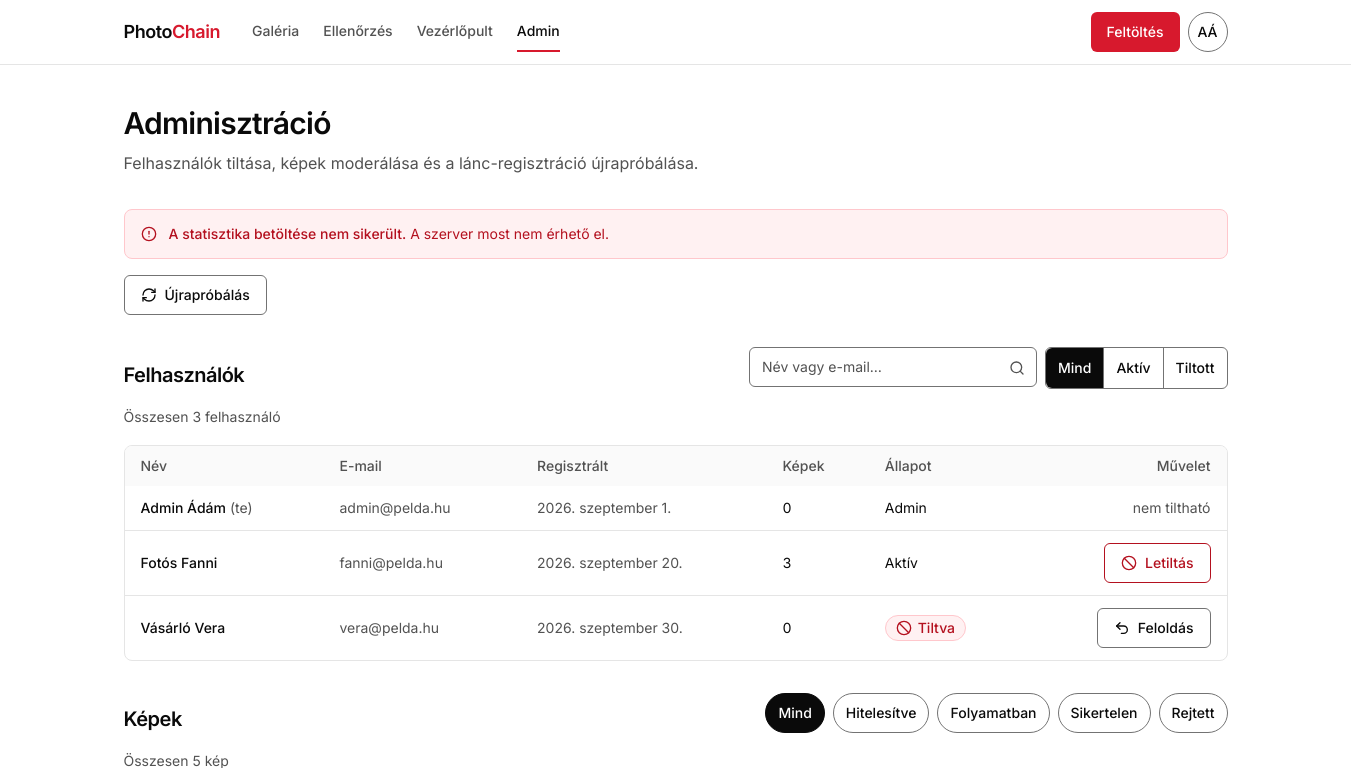
Test case: AdminPage – betöltési hibák › a statisztika betöltési hibája: riasztás, az állapotszűrő darabszám nélkül; siker után a számok megjelennek, a fókusz a statisztikára
The width and height of the screenshot is (1366, 768).
expect the message reads "A statisztika betöltése nem sikerült. A szerver most nem érhető el.": met, box [124,209,1228,259]
expect the text "Összesen 5 kép" is shown: met, box [124,752,229,767]
Click the button "Újrapróbálás": click(195, 295) [124,275,267,315]
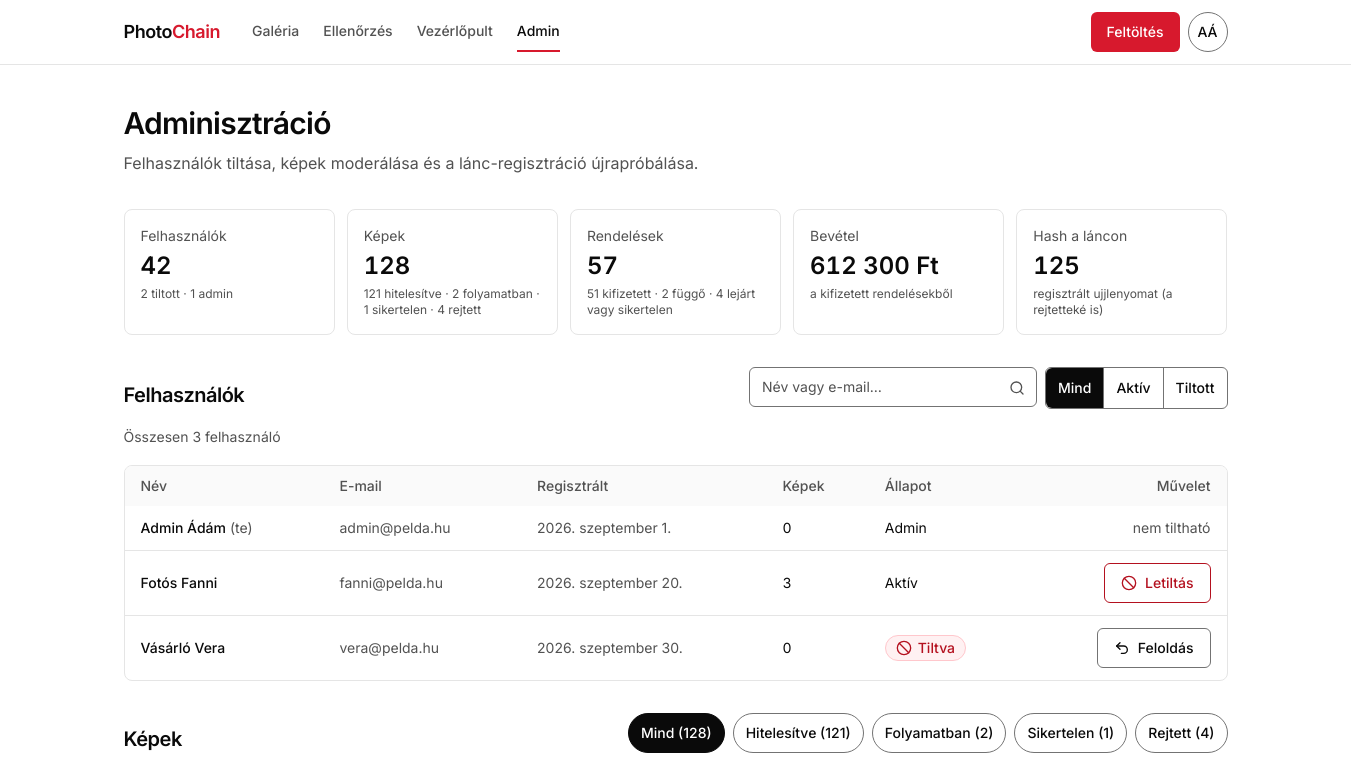
expect the text "42" is shown: met, box [140,251,172,280]
expect the button "Rejtett (4)" is shown: met, box [1135,713,1228,753]
